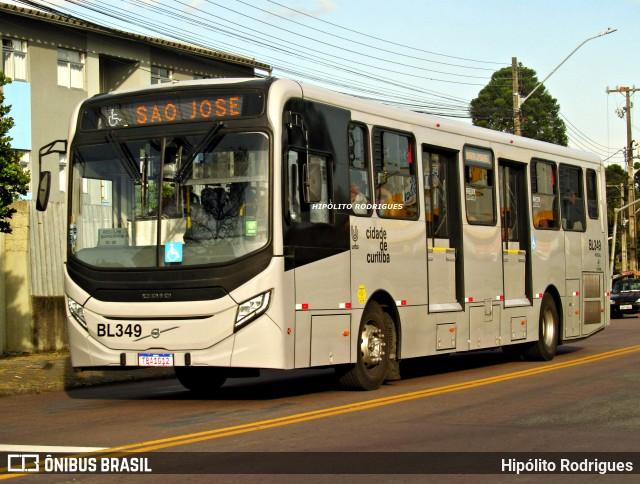SAO JOSE: (131, 92, 245, 127)
